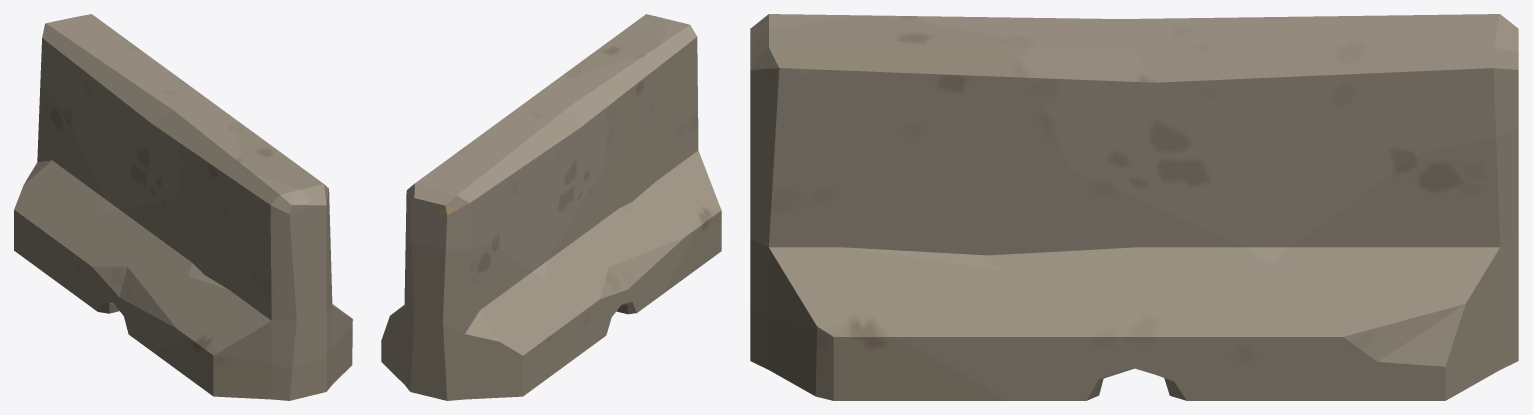
File: SM_Prop_Barrier_01.glb
The picture shows the model from 3 angles, left to right: view 1: azimuth 30°, elevation 25°; view 2: azimuth 150°, elevation 25°; view 3: azimuth 270°, elevation 25°; orthographic projection. The views are drawn at different scales.
Visible parts, largest first — view 1: SM_Prop_Barrier_01; view 2: SM_Prop_Barrier_01; view 3: SM_Prop_Barrier_01.
Part boxes in pixels (<box>): SM_Prop_Barrier_01: <box>14,14,352,400</box>; SM_Prop_Barrier_01: <box>381,14,721,400</box>; SM_Prop_Barrier_01: <box>750,14,1518,400</box>.
Size of the model in its own units: 0.7003 by 0.9544 by 2.1.
Materials: 1 (1 with a texture image).
